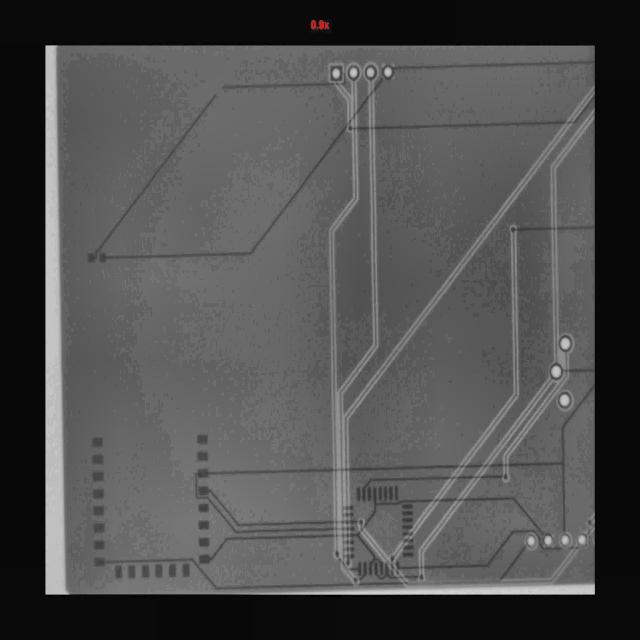Both: (554, 390, 575, 411), (345, 63, 363, 82), (548, 362, 565, 381), (523, 533, 540, 550), (364, 64, 378, 81), (381, 65, 394, 80), (560, 337, 571, 352), (542, 533, 553, 548), (331, 67, 342, 81), (560, 533, 571, 546), (576, 533, 587, 545), (419, 575, 424, 580), (504, 474, 507, 479), (349, 127, 352, 131)
L1: (96, 18, 402, 334), (50, 23, 350, 265), (195, 387, 594, 533), (192, 460, 544, 594), (92, 544, 354, 610), (392, 519, 577, 585), (192, 485, 364, 552), (351, 98, 593, 129), (352, 544, 528, 586), (363, 470, 503, 488), (392, 60, 593, 70), (517, 227, 593, 230), (376, 574, 419, 579), (91, 470, 105, 483), (92, 488, 106, 500), (92, 454, 104, 467), (93, 523, 106, 533), (198, 537, 211, 547), (92, 436, 103, 447), (93, 505, 104, 516), (93, 540, 105, 550), (155, 563, 163, 578), (198, 520, 210, 530), (115, 565, 123, 579), (198, 503, 209, 513), (197, 434, 208, 444), (142, 565, 150, 578), (182, 563, 190, 576), (197, 452, 208, 461), (128, 565, 135, 579), (169, 564, 176, 577), (563, 369, 593, 372), (356, 487, 361, 502), (402, 544, 414, 550), (402, 551, 414, 557), (401, 517, 414, 522), (401, 524, 414, 529), (389, 486, 393, 501), (401, 531, 413, 536), (402, 538, 414, 543), (362, 487, 366, 502), (378, 487, 382, 501), (402, 504, 413, 509), (402, 511, 413, 516), (390, 563, 394, 575), (385, 563, 389, 575), (342, 506, 354, 510), (343, 554, 354, 558), (343, 540, 354, 544), (343, 513, 354, 517), (384, 487, 387, 501), (395, 487, 398, 501), (359, 574, 365, 581), (368, 487, 371, 501), (369, 562, 372, 575), (364, 563, 367, 575), (358, 563, 361, 575), (344, 547, 353, 551), (380, 563, 383, 574), (375, 562, 377, 575), (347, 558, 349, 564)
L2: (288, 59, 594, 560), (390, 225, 561, 582), (324, 80, 399, 582), (411, 372, 552, 574), (314, 80, 363, 550), (524, 109, 594, 363), (494, 352, 578, 475), (501, 530, 587, 607), (359, 525, 408, 585), (336, 83, 351, 127)
